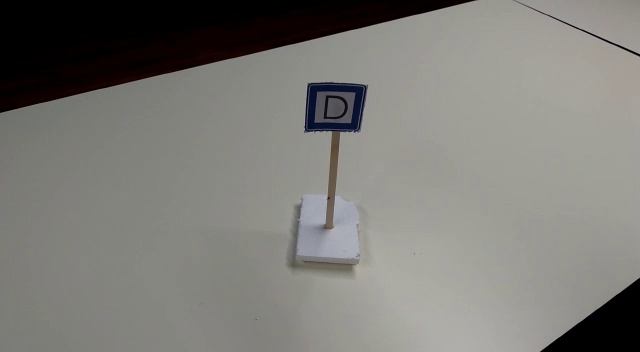durak: (303, 83, 367, 132)
